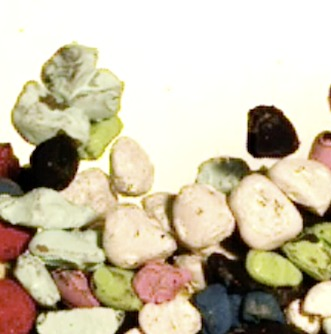black: (247, 106, 299, 159), (30, 135, 77, 193), (204, 252, 247, 297)
blue: (191, 285, 231, 334), (242, 291, 284, 331)
green: (11, 80, 88, 152), (1, 189, 96, 229), (40, 43, 97, 109), (27, 229, 107, 269), (15, 252, 60, 309), (71, 68, 120, 120), (35, 307, 124, 334), (91, 267, 142, 312), (244, 249, 301, 288), (77, 114, 121, 159), (195, 157, 251, 192)
pink: (132, 260, 190, 304), (51, 268, 100, 309)
white: (227, 174, 302, 251), (102, 203, 176, 270), (172, 186, 235, 250), (265, 157, 331, 217), (61, 167, 120, 215), (110, 136, 154, 196), (139, 291, 199, 334), (140, 191, 180, 238), (174, 254, 204, 294)
